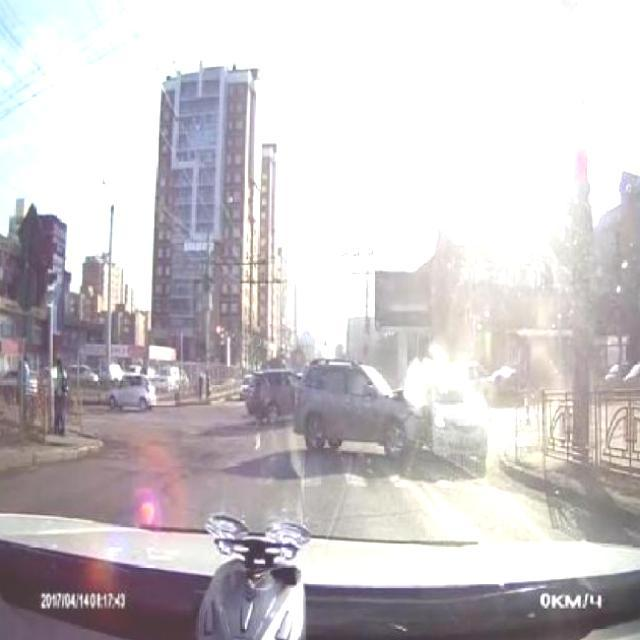accident: (348, 361, 497, 466)
